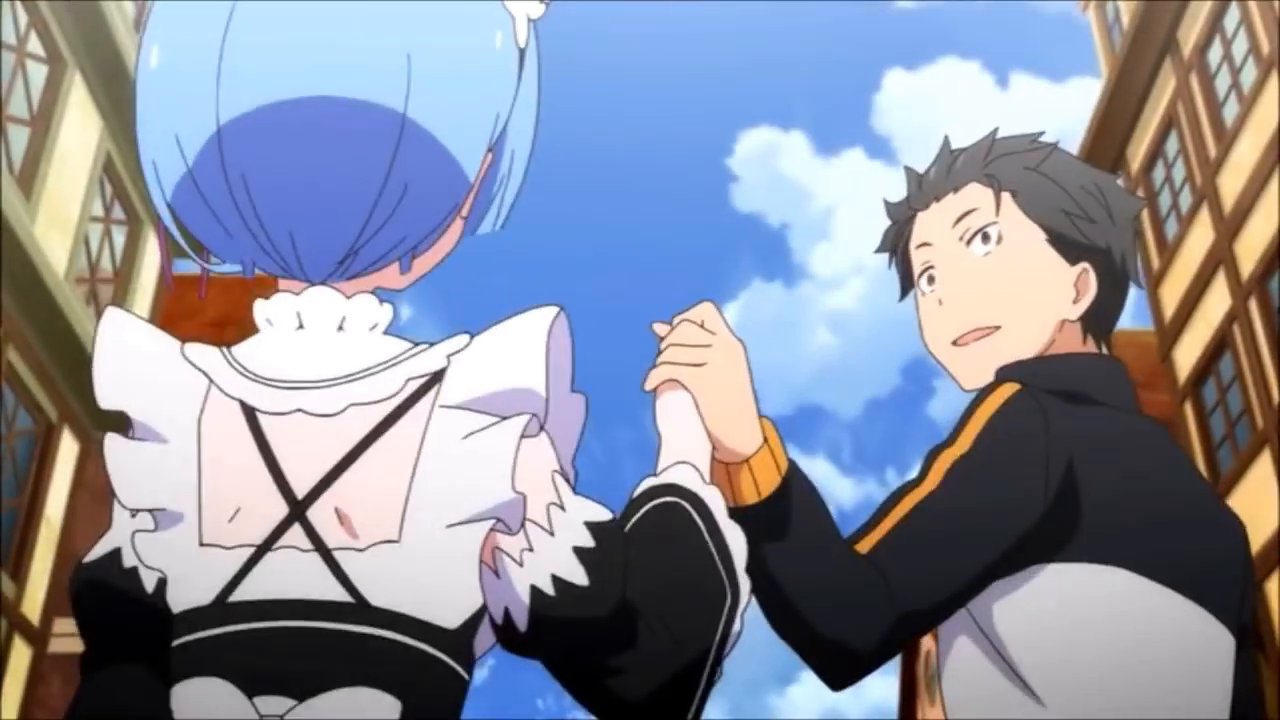REM: (129, 1, 543, 302)
